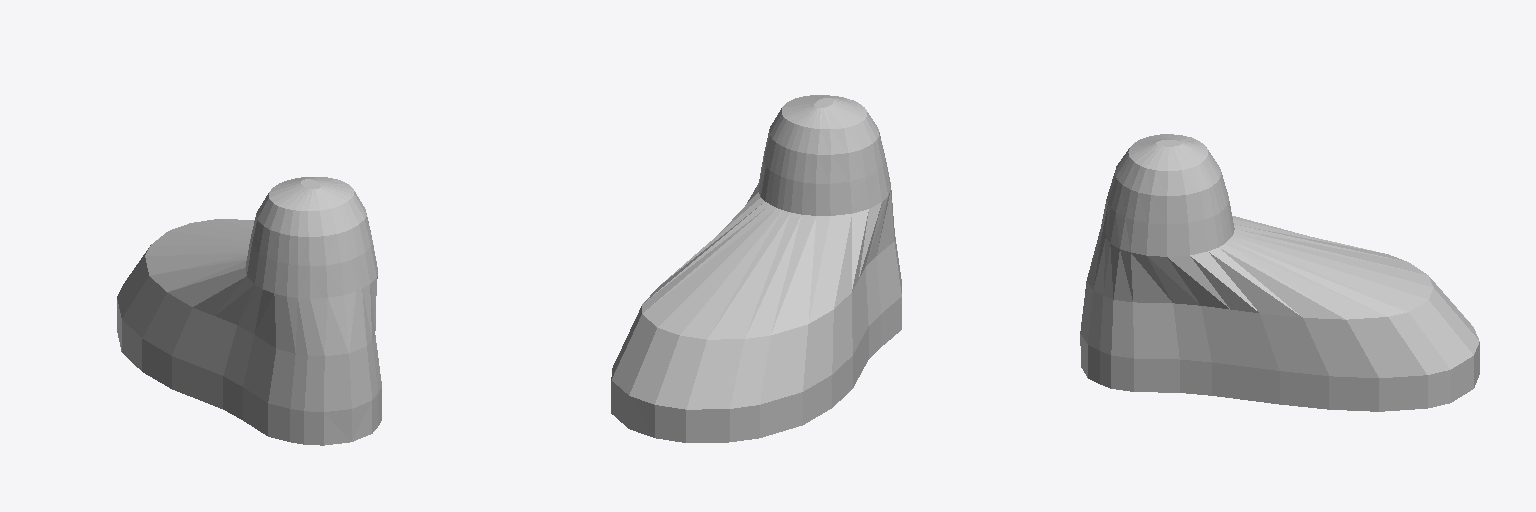
File: Knight_footLeft.obj
3 renders of one model, left to right at view 1: azimuth 30°, elevation 25°; view 2: azimuth 150°, elevation 25°; view 3: azimuth 270°, elevation 25°, orthographic.
Visible parts, largest first — view 1: 足_左_立方体.009; view 2: 足_左_立方体.009; view 3: 足_左_立方体.009.
Boxes of the visible parts, x1=… form: 足_左_立方体.009: x1=117, y1=177, x2=381, y2=445; 足_左_立方体.009: x1=611, y1=95, x2=901, y2=442; 足_左_立方体.009: x1=1080, y1=134, x2=1479, y2=411.
Bounding box in the file's own units: 0.875 × 1.06 × 1.7.